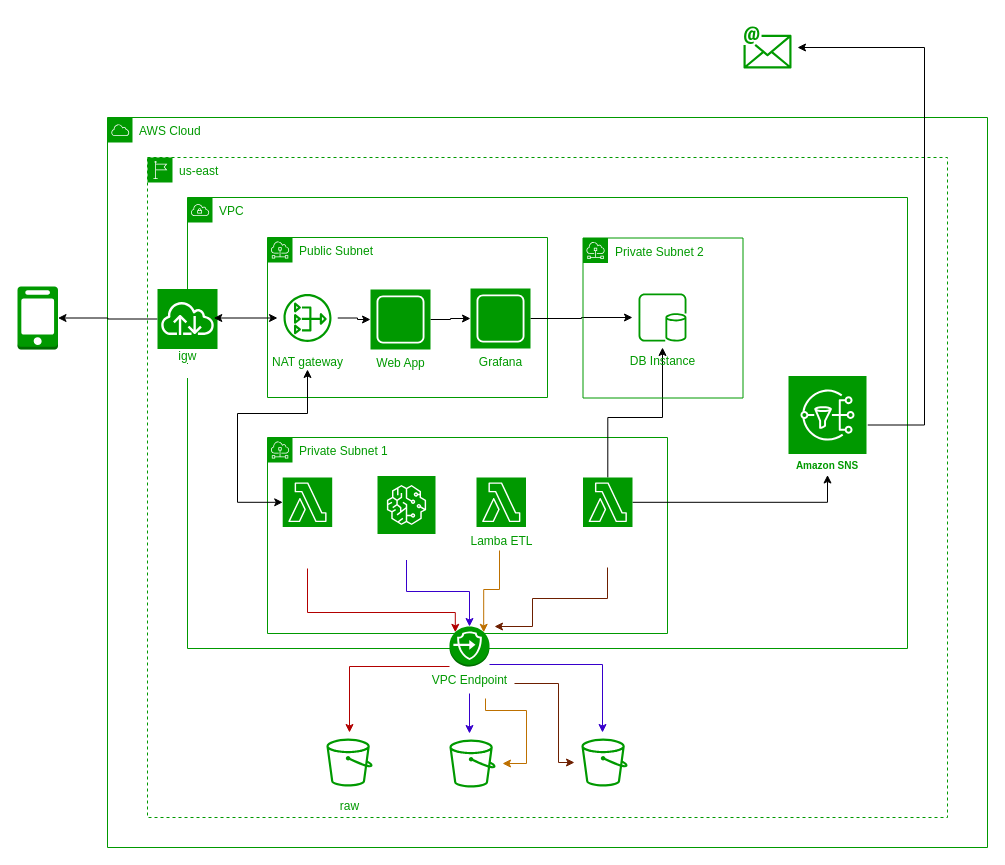
Image size: 1005x865. Some labels were removed from this diagram. The shapes that lost their labels are listed below. From the top down, each one's centre as x and y in pixels, then its label:
At (767,47): "Email".
At (37,318): "Client".
At (307,501): "Lambda Ingestion".
At (406,517): "SageMaker".
At (607,501): "Lambda Orquestrador".
At (472,763): "trusted".
At (604,762): "prediction".
